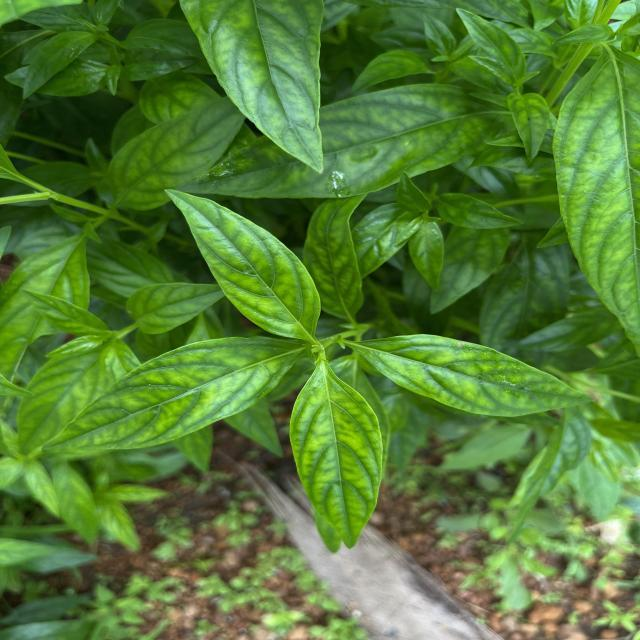Andrographis paniculata: (40, 334, 301, 454), (162, 188, 322, 342), (355, 331, 595, 418), (288, 356, 384, 550), (106, 95, 242, 212), (302, 192, 366, 326), (435, 192, 525, 230)
